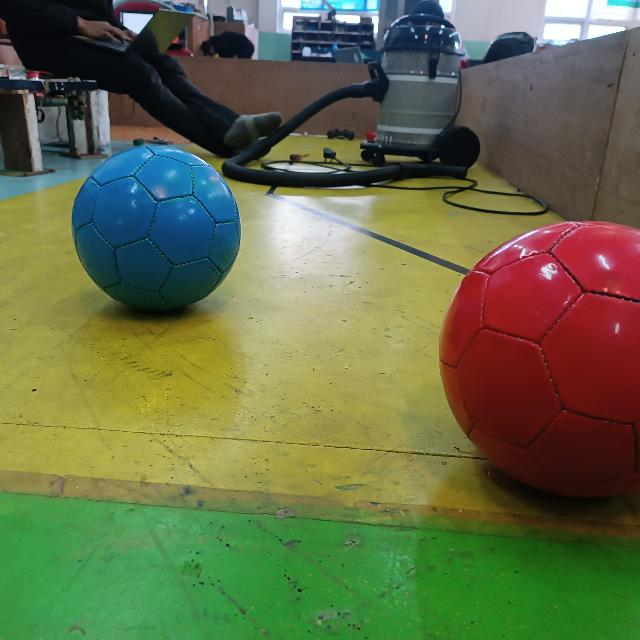B: (68, 141, 244, 317)
R: (432, 216, 640, 506)
